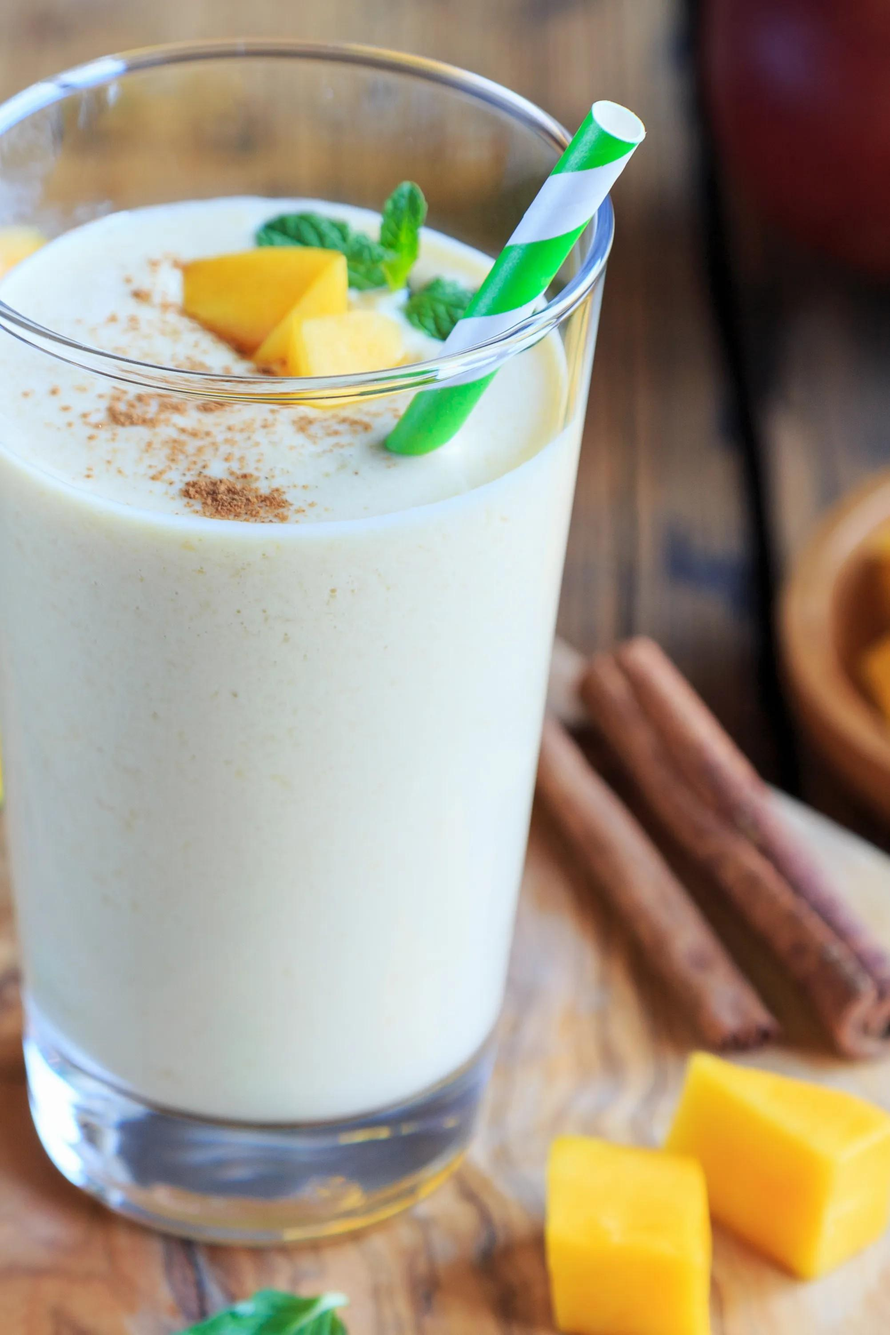Lassi: (11, 167, 592, 1107)
